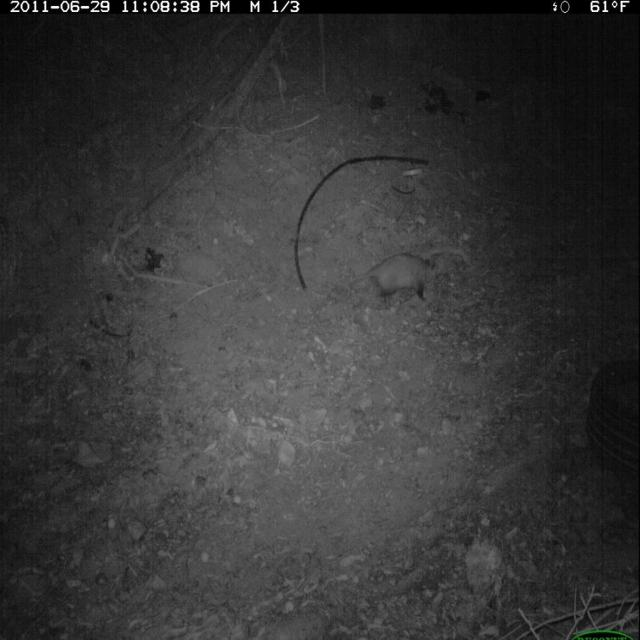opossum: (347, 247, 449, 317)
